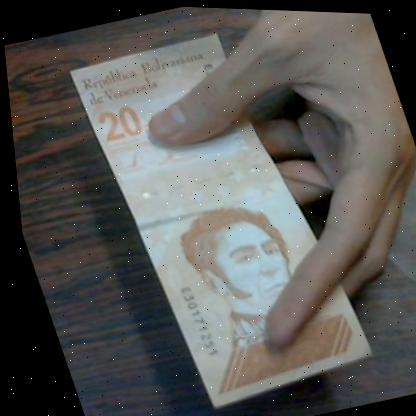twenty-front-vef: (63, 17, 378, 416)
